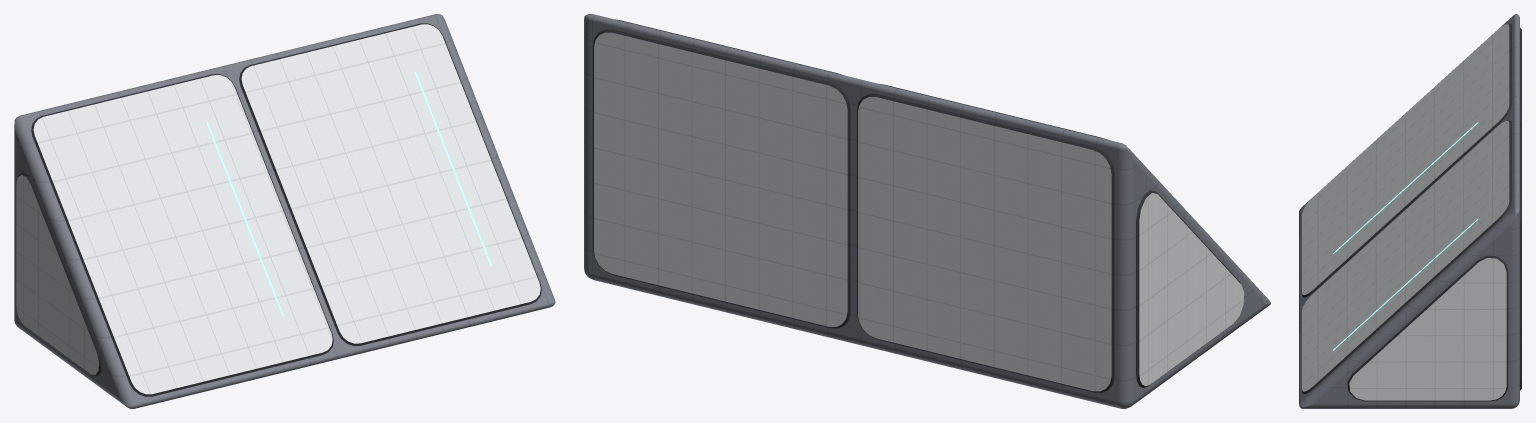
Rendered from R4B_WideWedge.glb.
3 views of the same model, side by side, from view 1: azimuth 30°, elevation 25°; view 2: azimuth 150°, elevation 25°; view 3: azimuth 270°, elevation 25° (orthographic). The views are drawn at different scales.
Parts seen in each view (by area): view 1: R4B_WideWedge; view 2: R4B_WideWedge; view 3: R4B_WideWedge.
Part boxes in pixels (<box>): R4B_WideWedge: <box>14,14,555,408</box>; R4B_WideWedge: <box>584,14,1270,408</box>; R4B_WideWedge: <box>1299,14,1521,408</box>.
Bounding box in the file's own units: 1.07 × 0.4985 × 0.4985.
4 materials, 3 textured.
